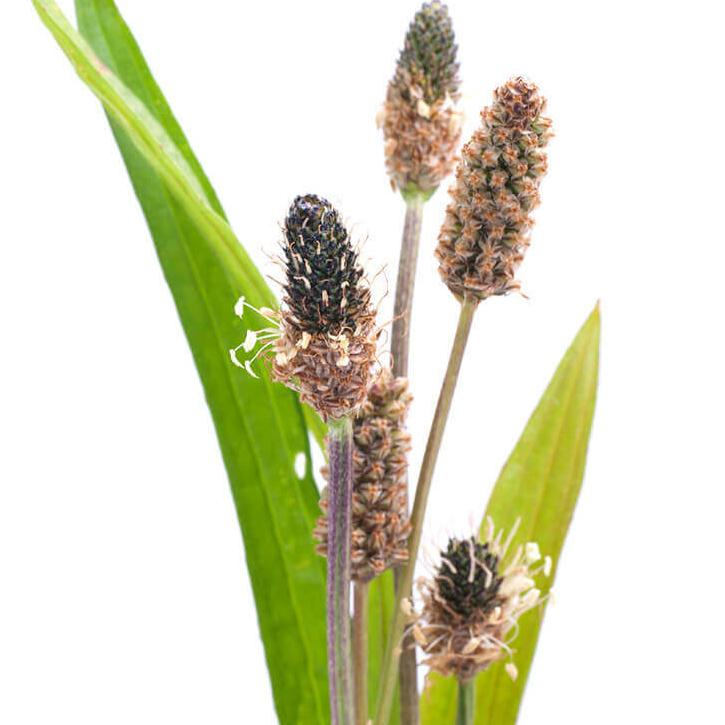buckhorn plantain: (22, 1, 596, 725), (247, 171, 391, 523), (444, 66, 538, 376), (409, 513, 529, 697)
